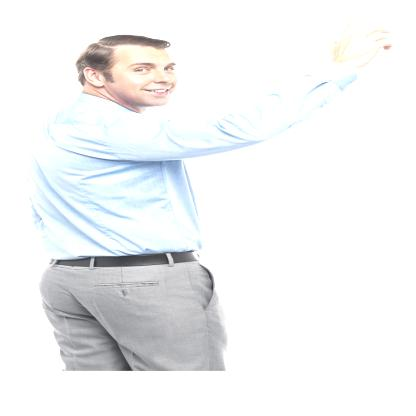Up: (316, 5, 401, 74)
